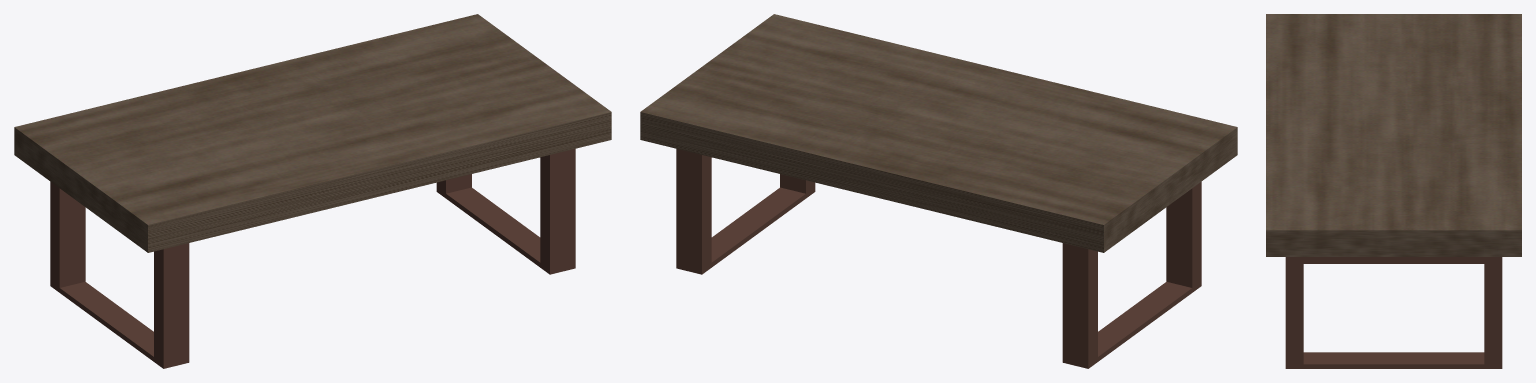
The model's file is fbx_lowTable.fbx.
3 renders of one model, left to right at view 1: azimuth 30°, elevation 25°; view 2: azimuth 150°, elevation 25°; view 3: azimuth 270°, elevation 25°, orthographic. The views are drawn at different scales.
Parts seen in each view (by area): view 1: lowTable; view 2: lowTable; view 3: lowTable.
Boxes of the visible parts, x1,y1,x2,y2 form: lowTable: (14,14,611,368); lowTable: (640,14,1237,368); lowTable: (1266,14,1521,368).
Bounding box in the file's own units: 4.86 × 1.58 × 2.43.
